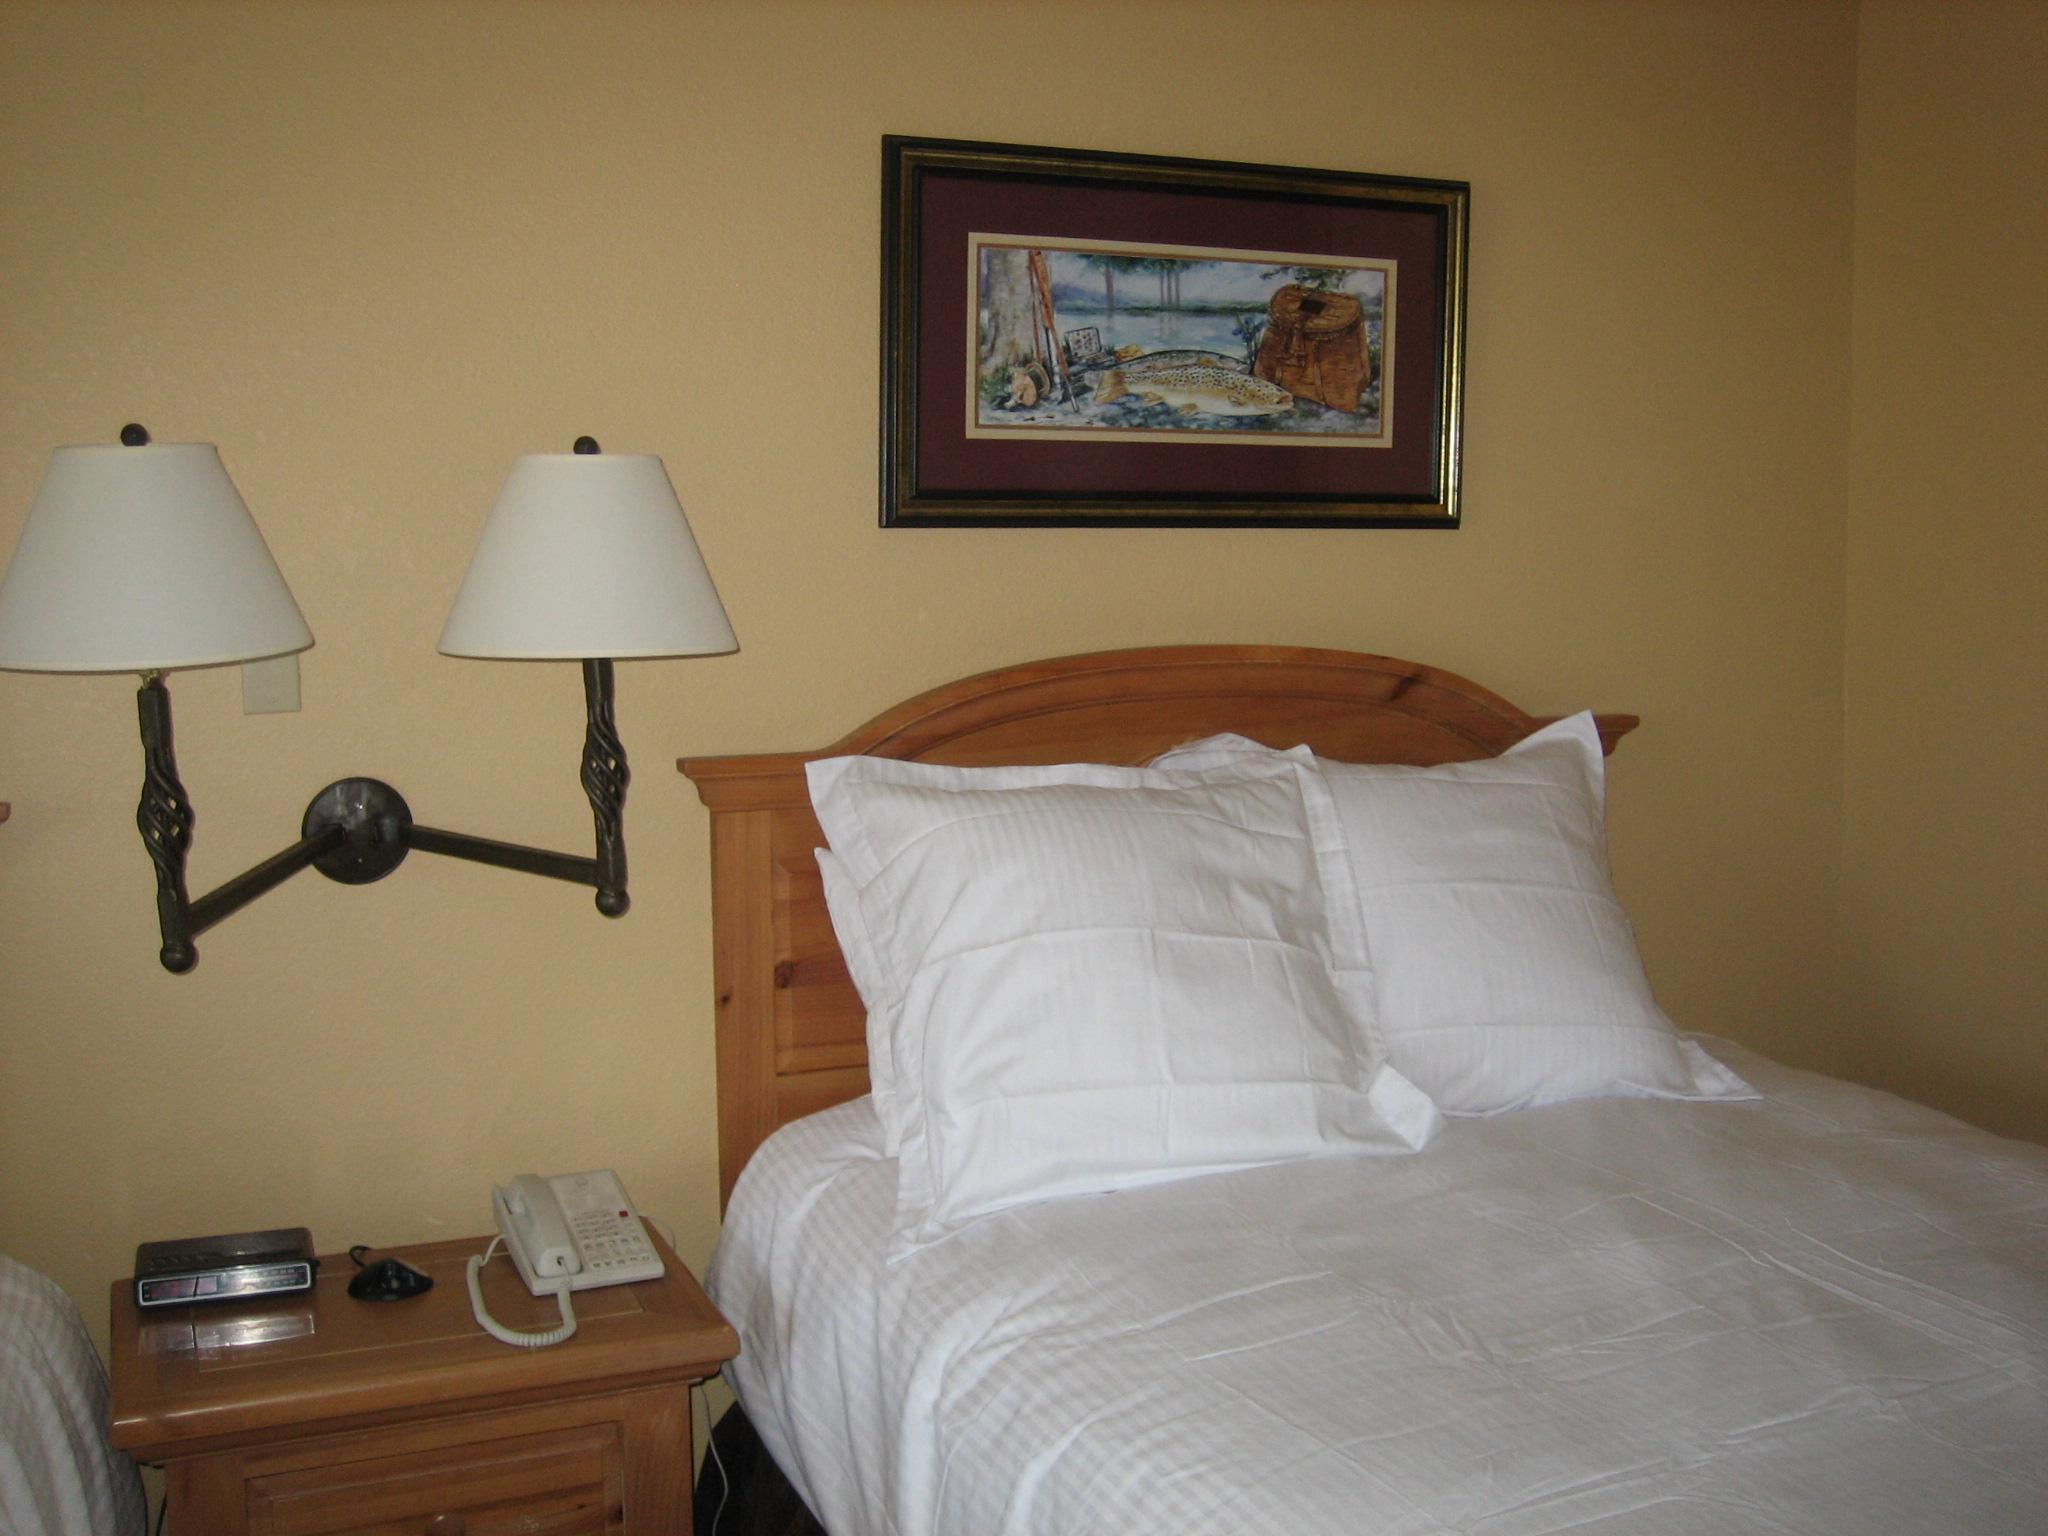Cama: (693, 724, 2025, 1523)
